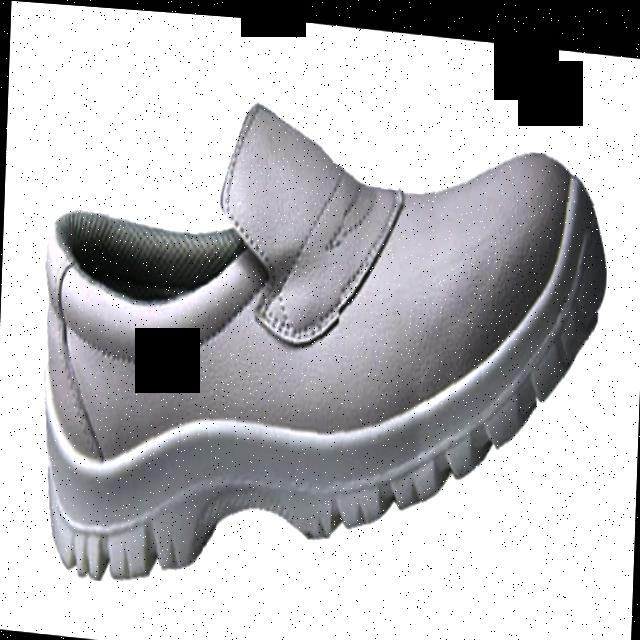shoe: (29, 56, 622, 627)
